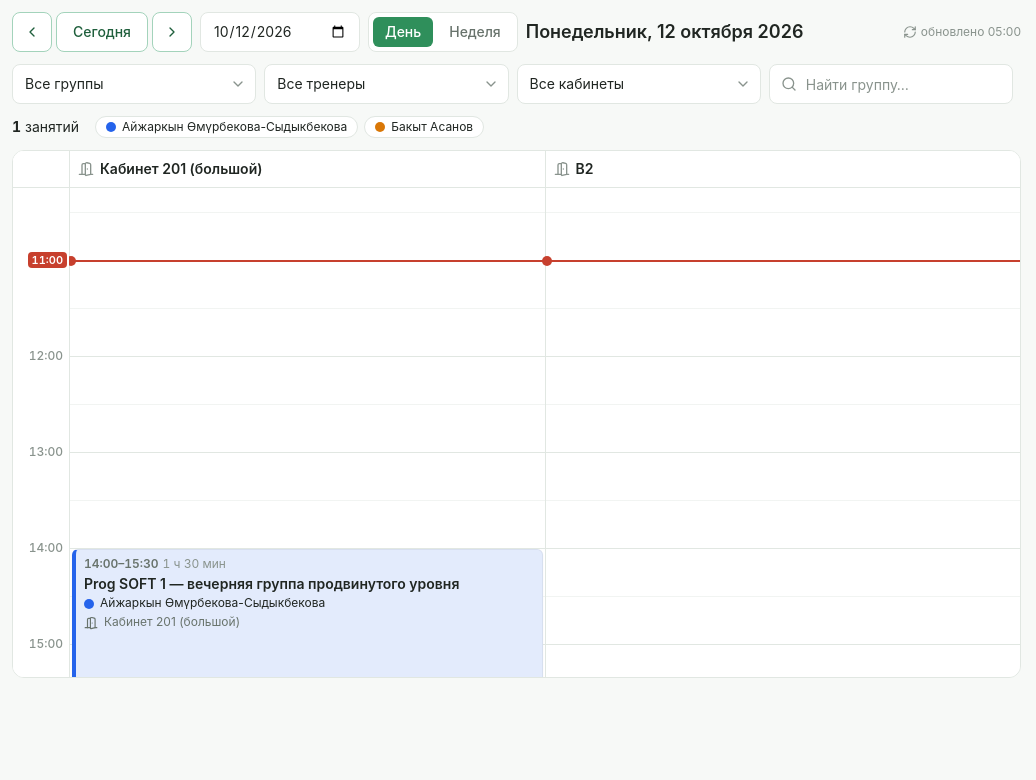
Public schedule site (no login) › searches a group by name
(page scrolled)
Step 1. Type "robo" into the search field named "Поиск группы" → (891, 84), box [769, 64, 1013, 104]
(page scrolled)
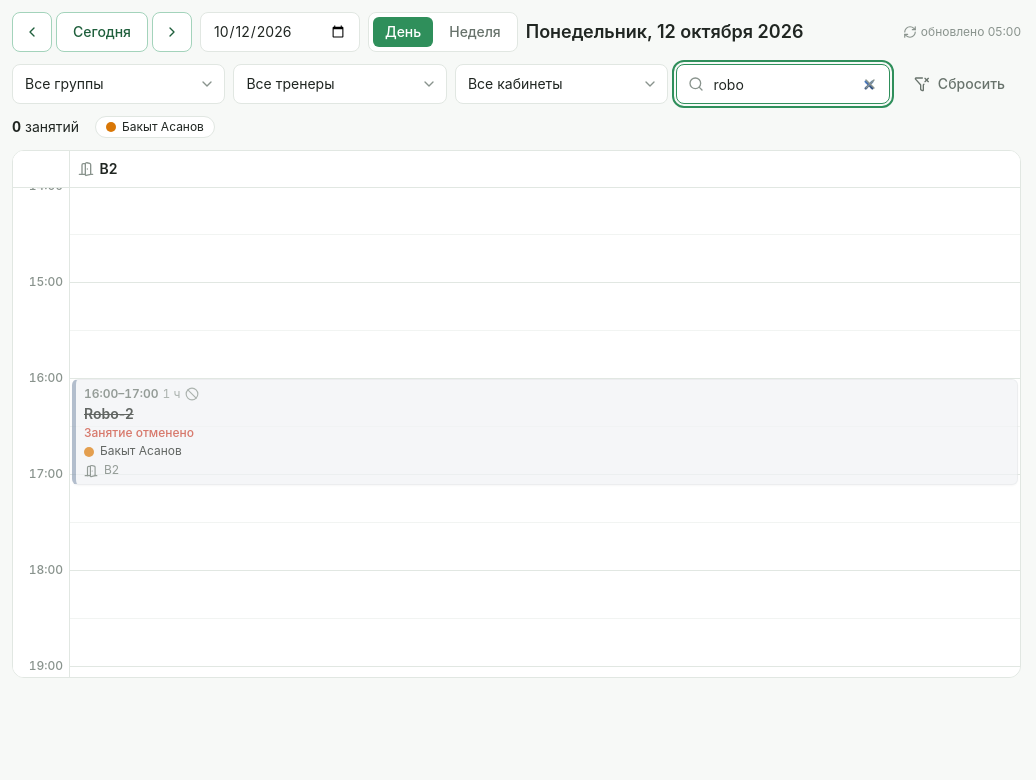
Now the button "Prog SOFT 1 — вечерняя группа продвинутого уровня" is gone
Now the text "Robo-2" is shown, box [84, 404, 134, 423]
